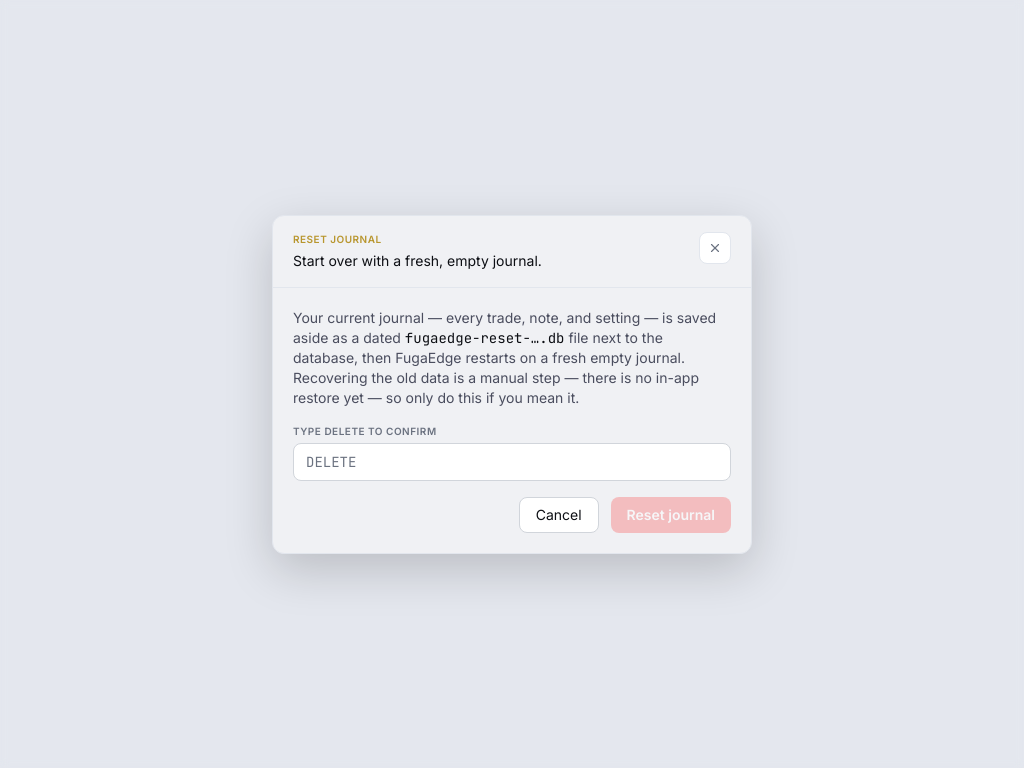
ResetJournalModal — type-to-confirm gating › enables confirm when DELETE is typed with surrounding whitespace
This screenshot has width=1024, height=768.
In the field: (512, 462) [293, 442, 731, 480], type "  DELETE  "
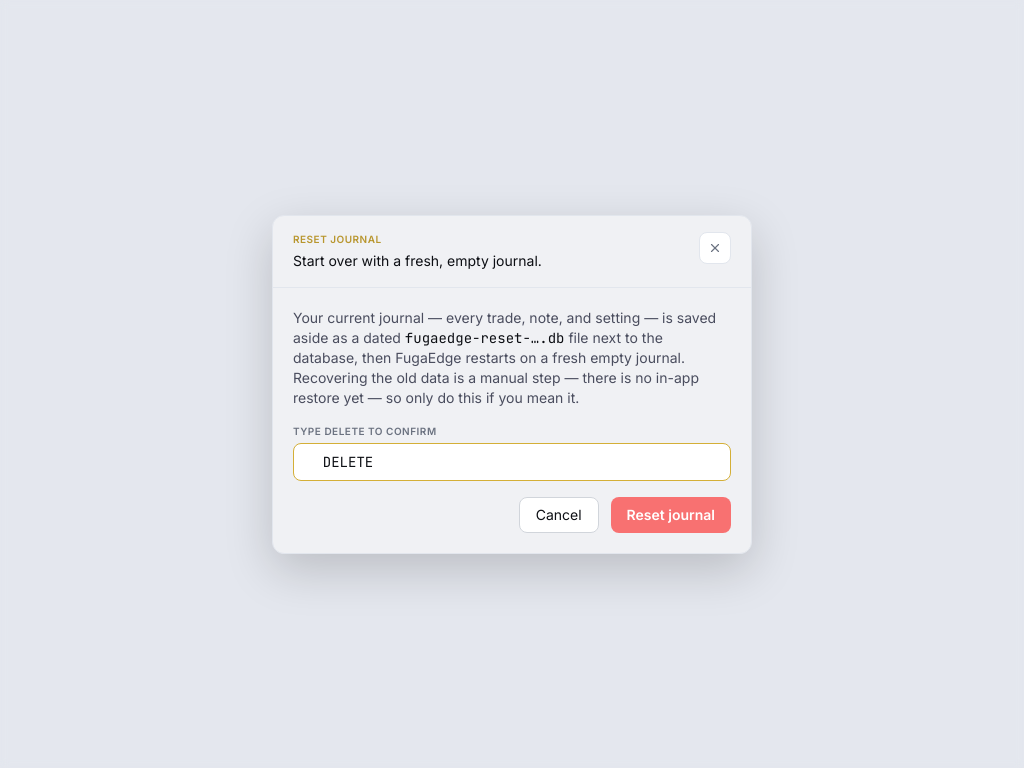
Now the button "Reset journal" is enabled, box [611, 496, 731, 532]
